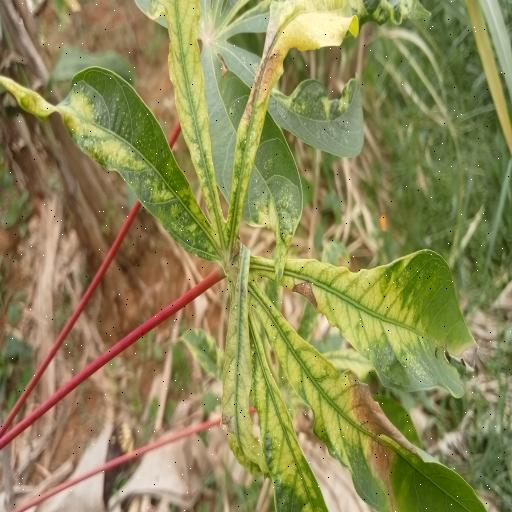Cassava_Bacterial_Disease: (8, 1, 488, 505)
